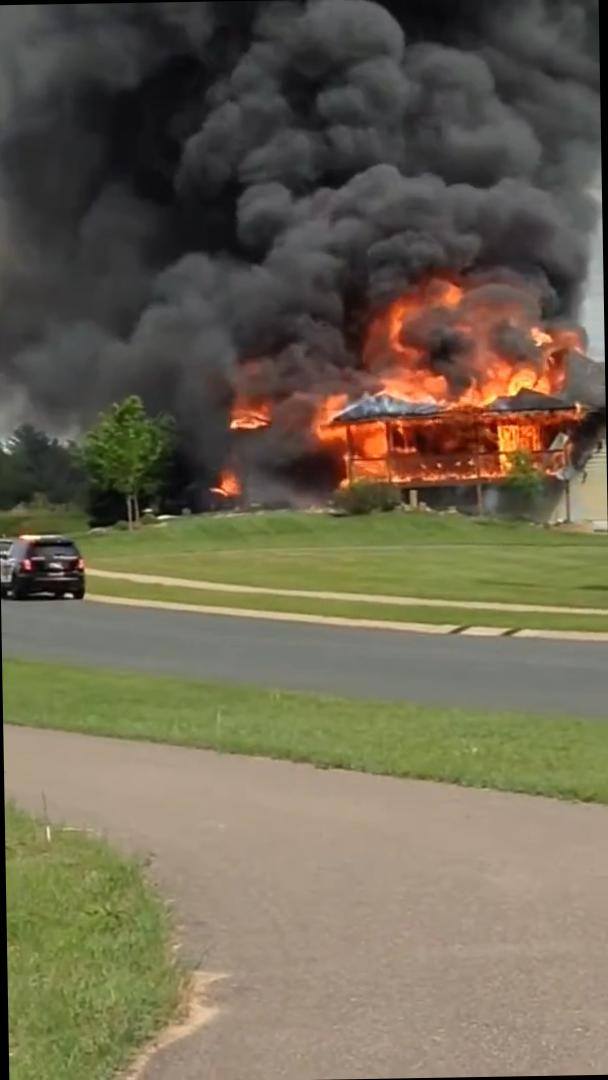Fire: (318, 277, 588, 486)
Smoke: (0, 0, 603, 305)
